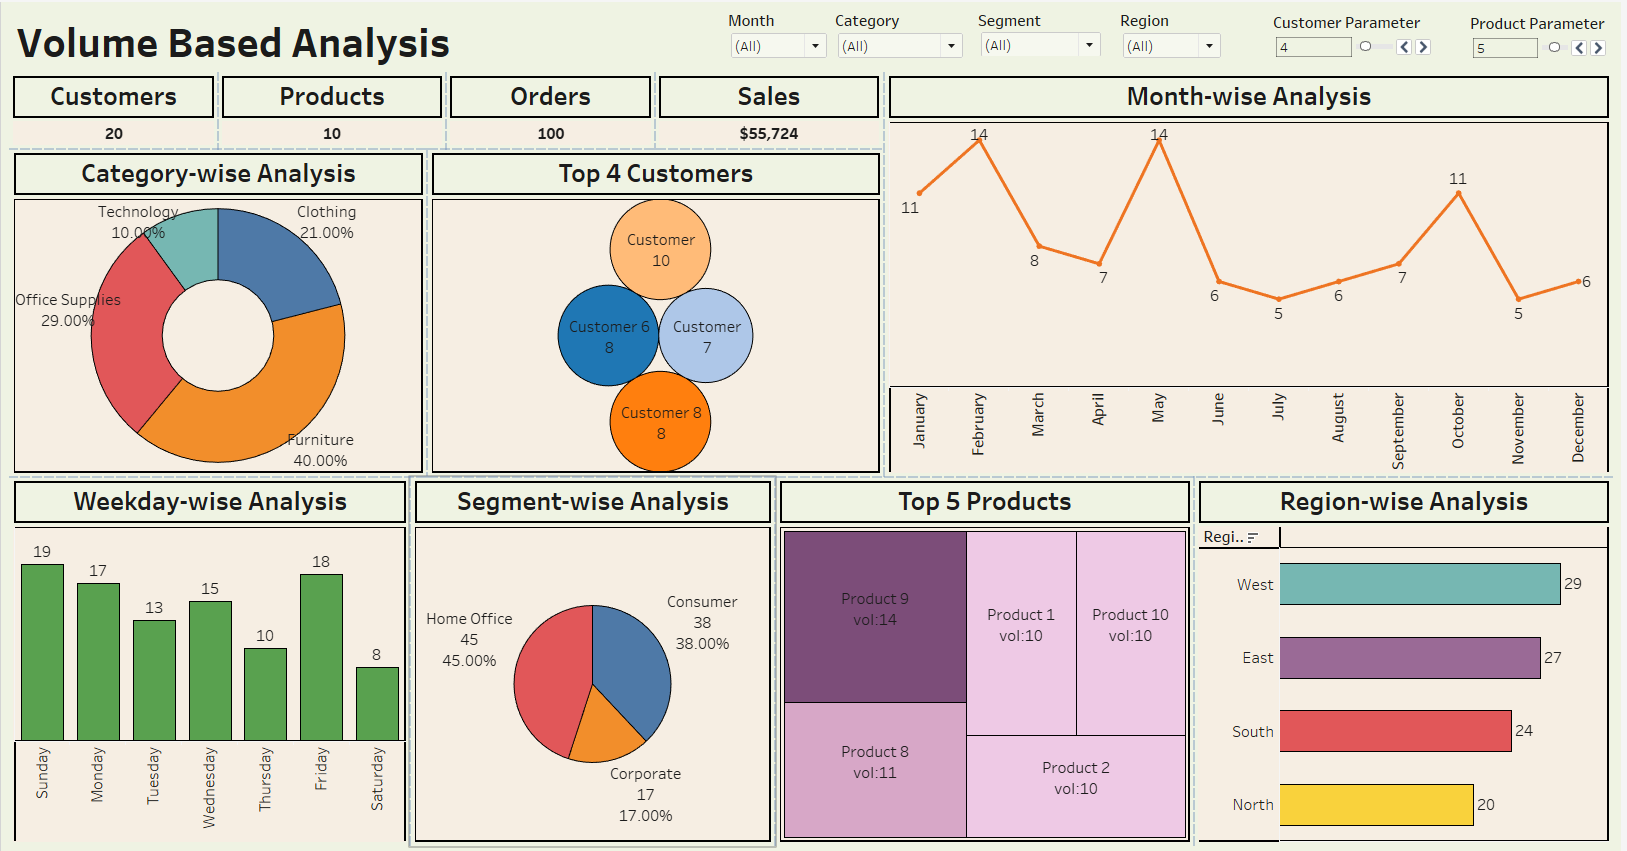

What the dashboard file says about the page in this screenshot:
{"tool":"tableau","page":{"name":"Volume Based Analysis","canvas":[1000,1000],"units":"permille","ordinal":2},"visuals":[{"type":"title","box":[5,9.6,990,74.6]},{"type":"filter","title":"Category-wise Vol Analysis ","param":"[federated.1e0u4ht0kt4j6x1ftj8en021s4zm].[mn:order_date:ok]","box":[448.9,9.6,62.9,57.8]},{"type":"filter","title":"Category-wise Vol Analysis ","param":"[federated.1e0u4ht0kt4j6x1ftj8en021s4zm].[none:category:nk]","box":[514.9,9.6,81,59]},{"type":"filter","title":"Category-wise Vol Analysis ","param":"[federated.1e0u4ht0kt4j6x1ftj8en021s4zm].[none:segment:nk]","box":[603.4,9.6,77.8,54.1]},{"type":"filter","title":"Category-wise Vol Analysis ","param":"[federated.1e0u4ht0kt4j6x1ftj8en021s4zm].[none:region:nk]","box":[690.5,9.6,64.1,59]},{"type":"parameter","param":"[Parameters].[Parameter 2]","box":[785.2,12,99.6,60.2]},{"type":"parameter","param":"[Parameters].[Parameter 1]","box":[906.6,13.2,85.9,61.4]},{"type":"worksheet","title":"Customers","mark":"Automatic","box":[5,84.2,128.9,90.2]},{"type":"worksheet","title":"Products","mark":"Automatic","box":[133.9,84.2,140.7,90.2]},{"type":"worksheet","title":"Orders","mark":"Automatic","box":[274.6,84.2,129.2,90.2]},{"type":"worksheet","title":"Sales","mark":"Automatic","box":[403.8,84.2,141,90.2]},{"type":"worksheet","title":"Month-wise Analysis Vol","mark":"Automatic","rows":["order_id"],"cols":["order_date"],"box":[544.8,84.2,450.2,474.1]},{"type":"worksheet","title":"Category-wise Vol Analysis ","mark":"Pie","rows":["Calculation_652177562399150081","Calculation_652177562399150081"],"box":[5,174.5,257.8,383.9]},{"type":"worksheet","title":"Top Customer Vol based","mark":"Circle","box":[262.7,174.5,282.1,383.9]},{"type":"worksheet","title":"Weekday-wise Analysis (2)","mark":"Bar","rows":["order_id"],"cols":["order_date"],"box":[5,558.4,247.5,432]},{"type":"worksheet","title":"Segment wise Vol Analysis","mark":"Pie","box":[252.5,558.4,225.1,432]},{"type":"worksheet","title":"Product-wise vol Analysis","mark":"Automatic","box":[477.6,558.4,258.7,432]},{"type":"worksheet","title":"Region-wise Vol Analysis","mark":"Automatic","rows":["region"],"cols":["order_id"],"box":[736.3,558.4,258.7,432]}]}

Visuals, with their boxes on the dashboard's canvas, which has no fixed pixel size, in thousandths of its width and height (x1, y1, x2, y2). These are canvas units, not pixel positions in the 1627x851 screenshot, which may show the page scaled, cropped or inside an application window:
title: <region>5, 10, 995, 84</region>
"Category-wise Vol Analysis " filter: <region>449, 10, 512, 67</region>
"Category-wise Vol Analysis " filter: <region>515, 10, 596, 69</region>
"Category-wise Vol Analysis " filter: <region>603, 10, 681, 64</region>
"Category-wise Vol Analysis " filter: <region>690, 10, 755, 69</region>
parameter: <region>785, 12, 885, 72</region>
parameter: <region>907, 13, 992, 75</region>
"Customers" worksheet: <region>5, 84, 134, 174</region>
"Products" worksheet: <region>134, 84, 275, 174</region>
"Orders" worksheet: <region>275, 84, 404, 174</region>
"Sales" worksheet: <region>404, 84, 545, 174</region>
"Month-wise Analysis Vol" worksheet: <region>545, 84, 995, 558</region>
"Category-wise Vol Analysis " worksheet (Pie marks): <region>5, 174, 263, 558</region>
"Top Customer Vol based" worksheet (Circle marks): <region>263, 174, 545, 558</region>
"Weekday-wise Analysis (2)" worksheet (Bar marks): <region>5, 558, 252, 990</region>
"Segment wise Vol Analysis" worksheet (Pie marks): <region>252, 558, 478, 990</region>
"Product-wise vol Analysis" worksheet: <region>478, 558, 736, 990</region>
"Region-wise Vol Analysis" worksheet: <region>736, 558, 995, 990</region>
